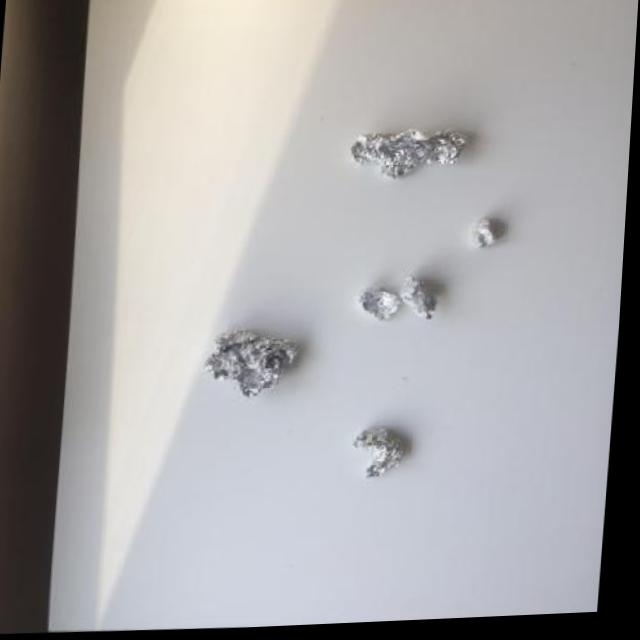metal: (196, 324, 303, 401), (346, 125, 468, 181), (346, 424, 408, 480), (396, 271, 440, 320), (355, 284, 401, 324), (466, 217, 500, 248)
